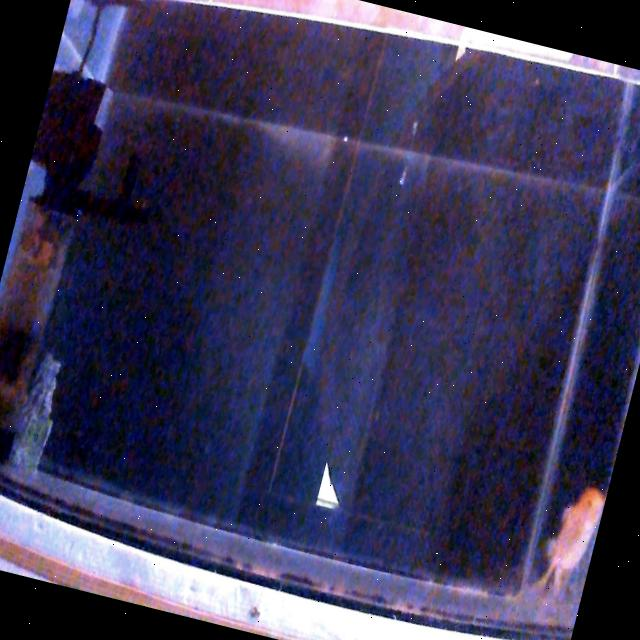fish: (532, 475, 608, 603)
